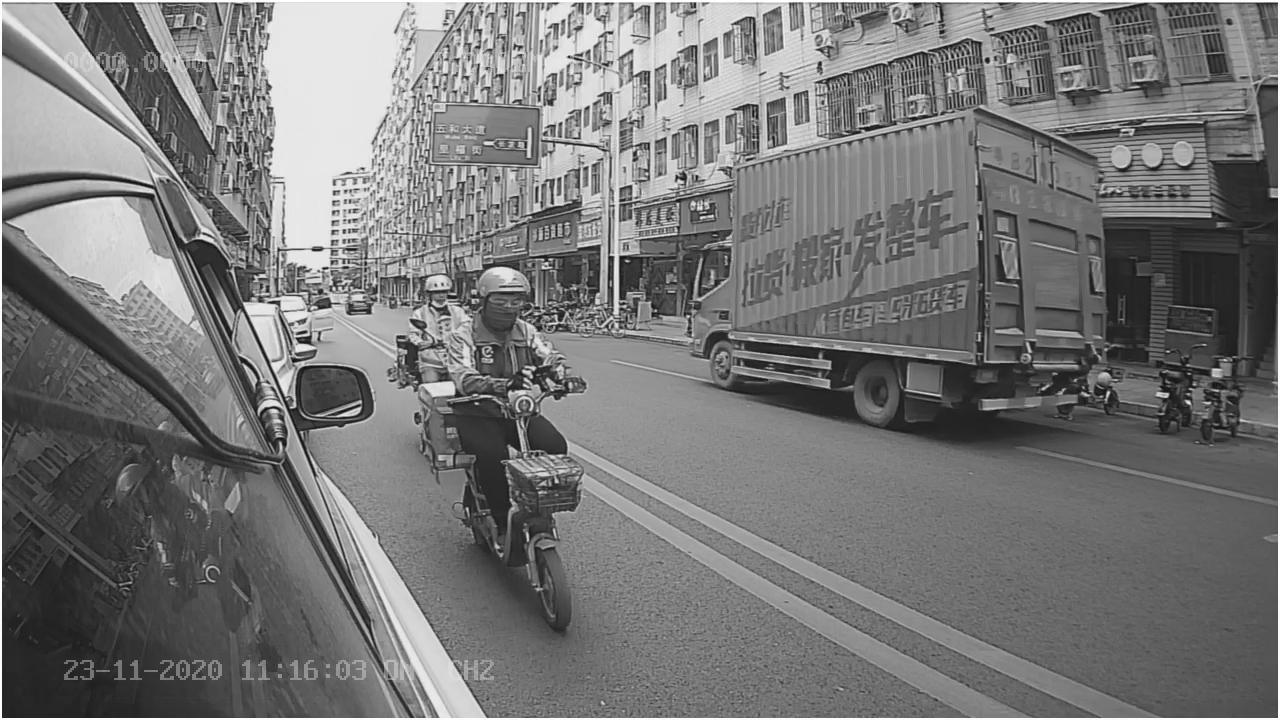person: (438, 263, 575, 370)
